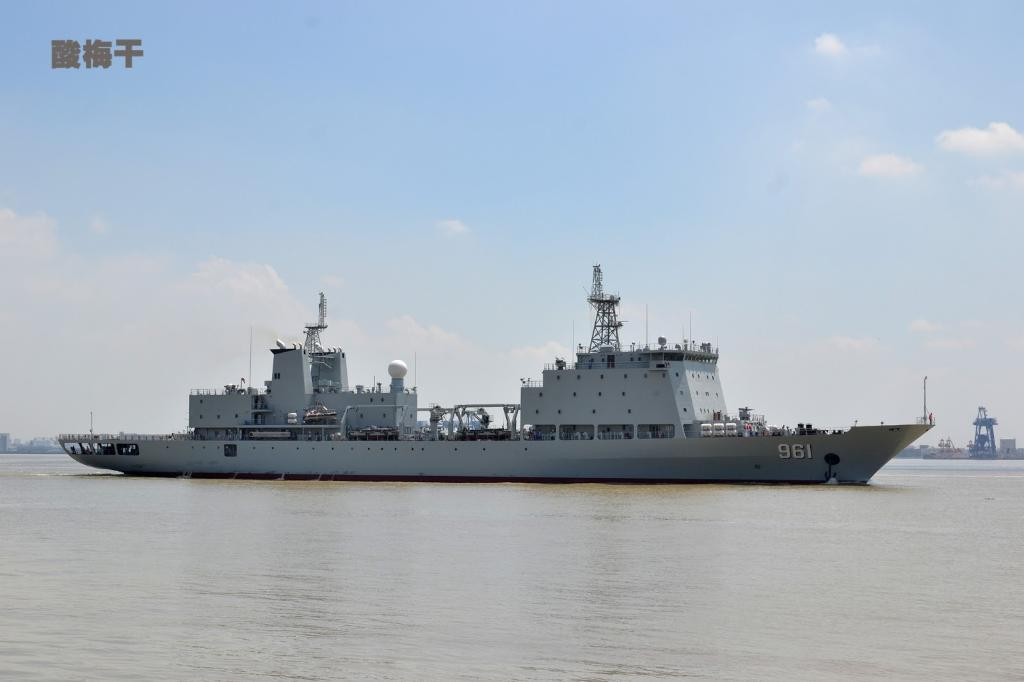Warship: (49, 246, 937, 490)
